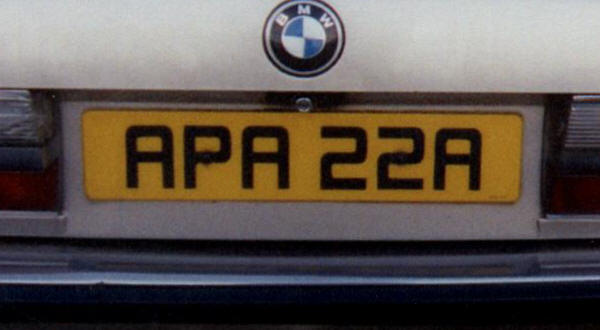license_plate: (81, 107, 525, 207)
